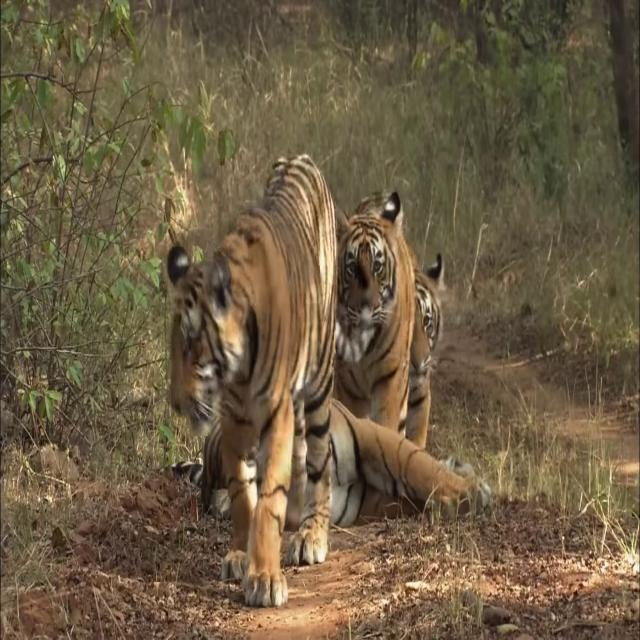tiger: (166, 152, 340, 608), (337, 188, 415, 436)
